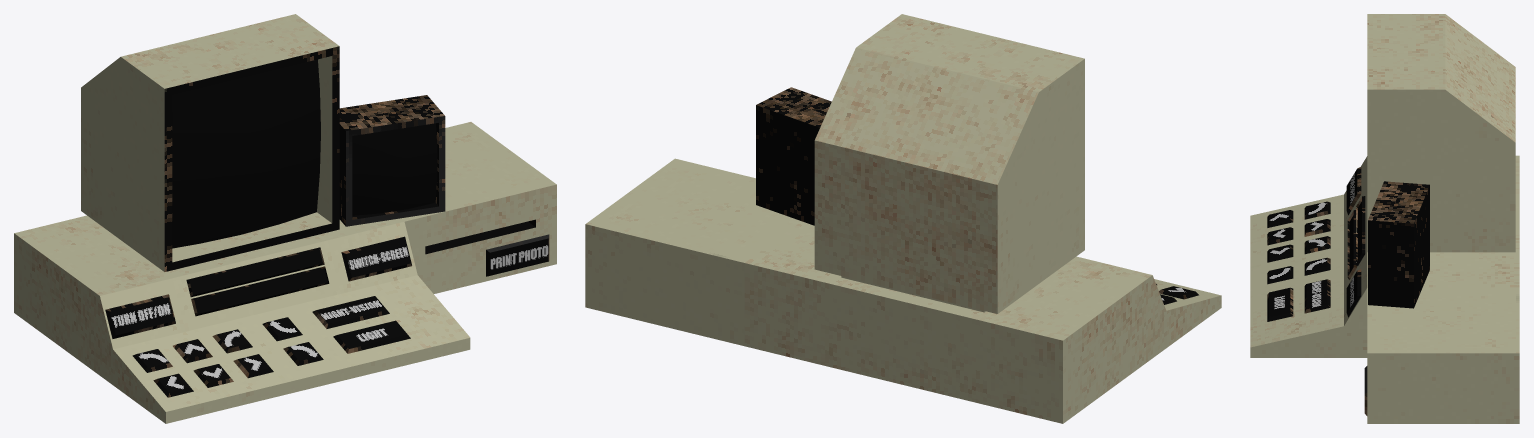
Rendered from pro1.glb.
The picture shows the model from 3 angles, left to right: view 1: azimuth 30°, elevation 25°; view 2: azimuth 150°, elevation 25°; view 3: azimuth 270°, elevation 25°; orthographic projection. The views are drawn at different scales.
Visible parts, largest first — view 1: Drone_Controller, Change_Screen, Turn_On/Off, Print_Image, FlashLight, NightVision, Drone_Right, Drone_Rotate_Right, Drone_Backward, Drone_Forward, Drone_Left, Drone_Rotate_Left (+2 smaller); view 2: Drone_Controller; view 3: Drone_Controller, NightVision, FlashLight, Change_Screen, Turn_On/Off, Camera_Up, Drone_Backward, Camera_Down, Drone_Forward, Drone_Left, Drone_Right, Drone_Rotate_Left (+1 smaller).
Part boxes in pixels (left/top/right/bottom): Drone_Controller: left=14, top=14, right=556, bottom=423; Change_Screen: left=341, top=236, right=411, bottom=281; Turn_On/Off: left=105, top=294, right=175, bottom=338; Print_Image: left=486, top=234, right=549, bottom=276; FlashLight: left=333, top=320, right=410, bottom=353; NightVision: left=312, top=296, right=389, bottom=328; Drone_Right: left=233, top=354, right=273, bottom=378; Drone_Rotate_Right: left=212, top=329, right=252, bottom=353; Drone_Backward: left=193, top=364, right=233, bottom=387; Drone_Forward: left=173, top=339, right=212, bottom=363; Drone_Left: left=153, top=373, right=193, bottom=397; Drone_Rotate_Left: left=132, top=349, right=172, bottom=372; Drone_Controller: left=585, top=14, right=1221, bottom=423; Drone_Controller: left=1250, top=14, right=1519, bottom=423; NightVision: left=1304, top=279, right=1330, bottom=313; FlashLight: left=1267, top=287, right=1293, bottom=321; Change_Screen: left=1346, top=269, right=1361, bottom=317; Turn_On/Off: left=1346, top=167, right=1361, bottom=215; Camera_Up: left=1304, top=257, right=1330, bottom=275; Drone_Backward: left=1267, top=227, right=1293, bottom=245; Camera_Down: left=1267, top=266, right=1293, bottom=284; Drone_Forward: left=1304, top=219, right=1330, bottom=236; Drone_Left: left=1267, top=210, right=1293, bottom=227; Drone_Right: left=1267, top=244, right=1293, bottom=262; Drone_Rotate_Left: left=1304, top=201, right=1330, bottom=219.
Bounding box in the file's own units: 1.2 × 0.68 × 0.69.
7 materials, 2 textured.
